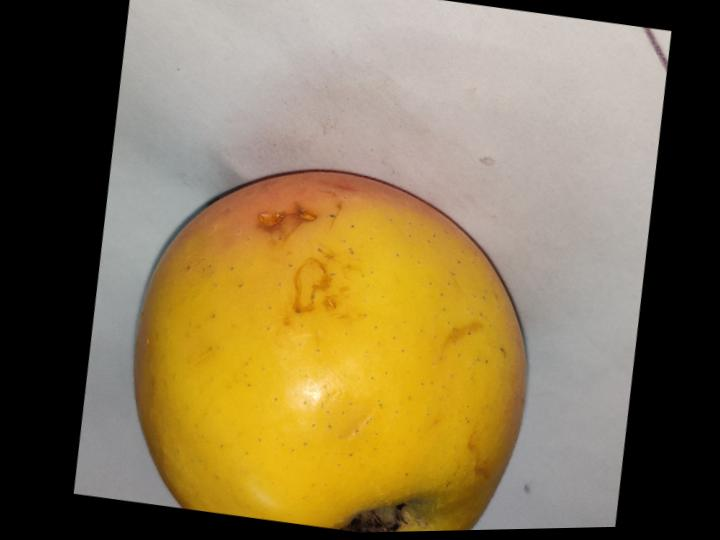apple: (135, 170, 525, 532)
surface_damage: (294, 257, 331, 312), (258, 209, 286, 225), (299, 212, 316, 219)
